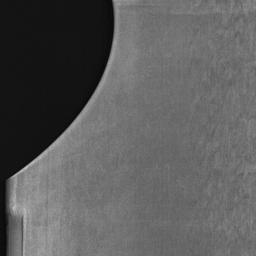Crescent gap: (9, 0, 114, 177)
